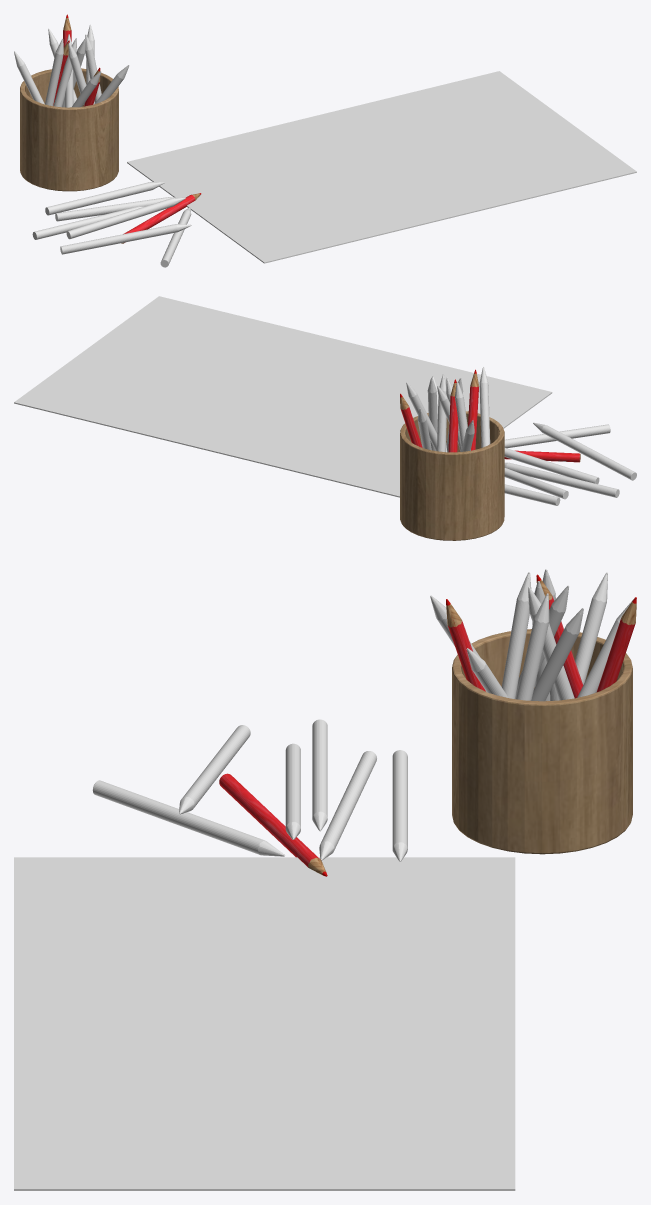
File: disegno.fbx
3 renders of one model, top to bottom at view 1: azimuth 30°, elevation 25°; view 2: azimuth 150°, elevation 25°; view 3: azimuth 270°, elevation 25°, orthographic. The views are drawn at different scales.
Parts seen in each view (by area): view 1: 1 desenho_.011; view 2: 1 desenho_.011; view 3: 1 desenho_.011.
Part boxes in pixels (x1=…): 1 desenho_.011: x1=14, y1=14, x2=636, y2=267; 1 desenho_.011: x1=14, y1=296, x2=636, y2=540; 1 desenho_.011: x1=14, y1=569, x2=636, y2=1190.
Size of the model in its own units: 49.21 by 12.2 by 28.09.
Materials: 9 (2 with a texture image).
